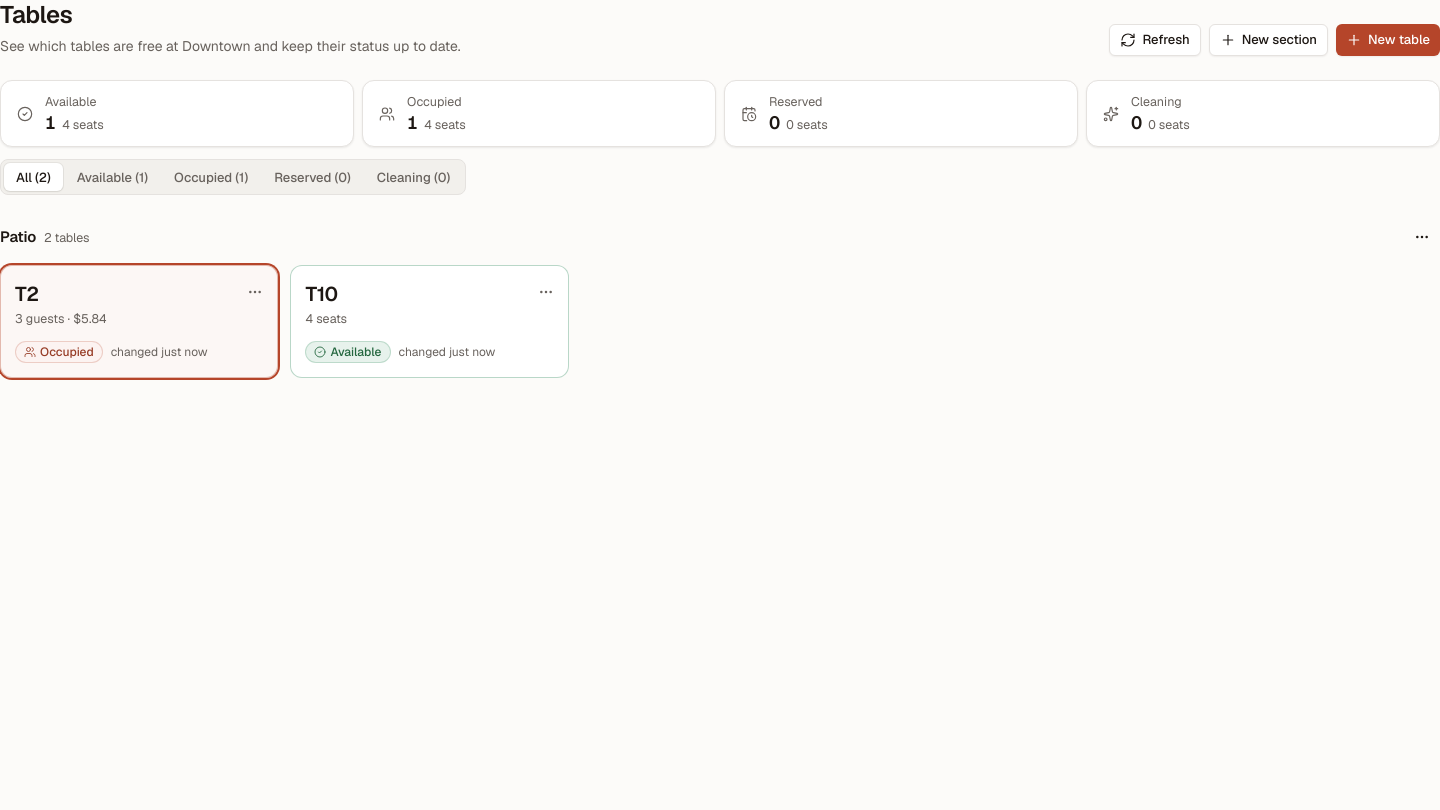
Test: Tables screen: checks › each check keeps its own round: Ana's round goes to Ana's check; a retry reuses the key
Later steps or results of the test are not shown.
Press Enter in the button with aria-label "Table T2,", box [0, 265, 278, 378]
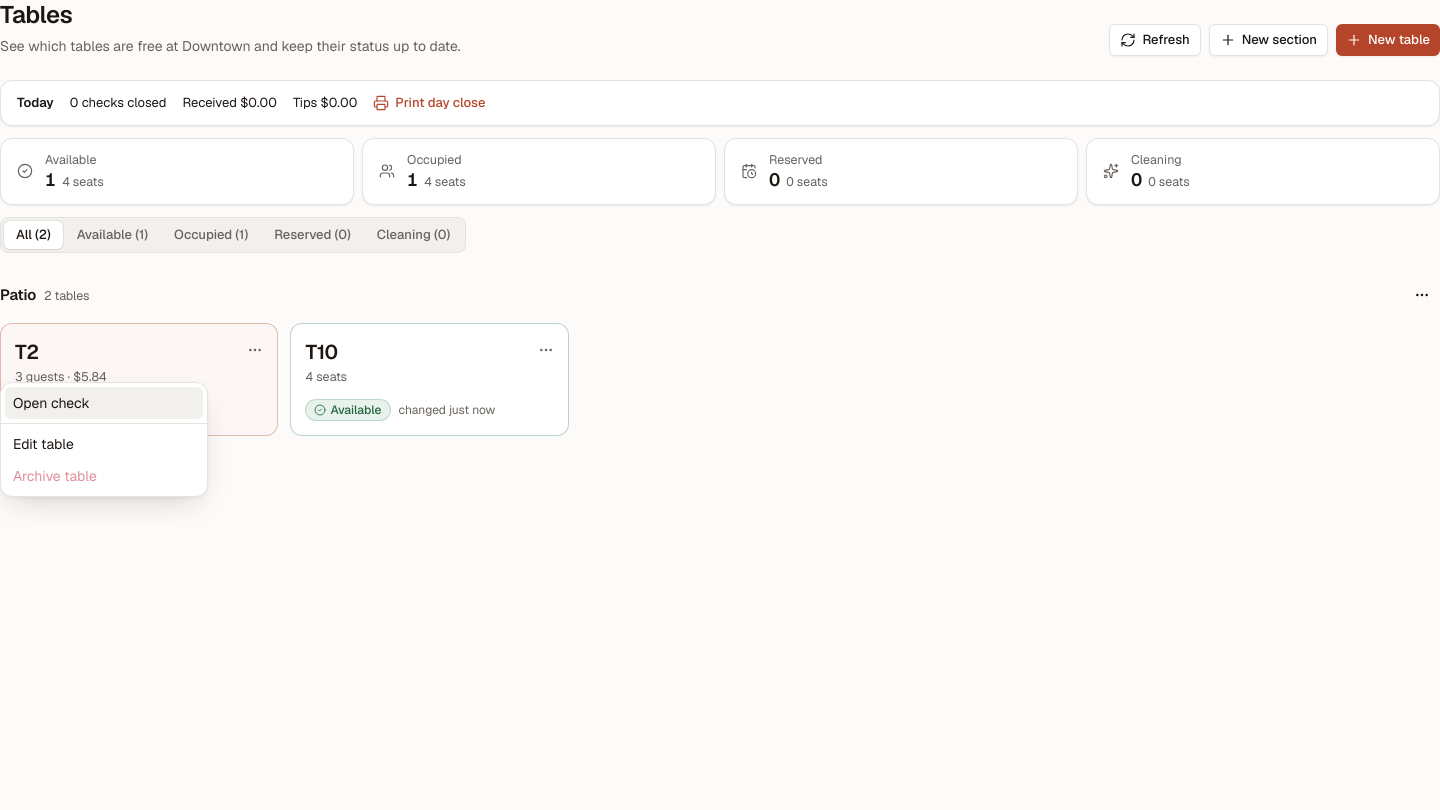
Click the menu item "Open check".
click(104, 403)  # box [5, 387, 203, 419]
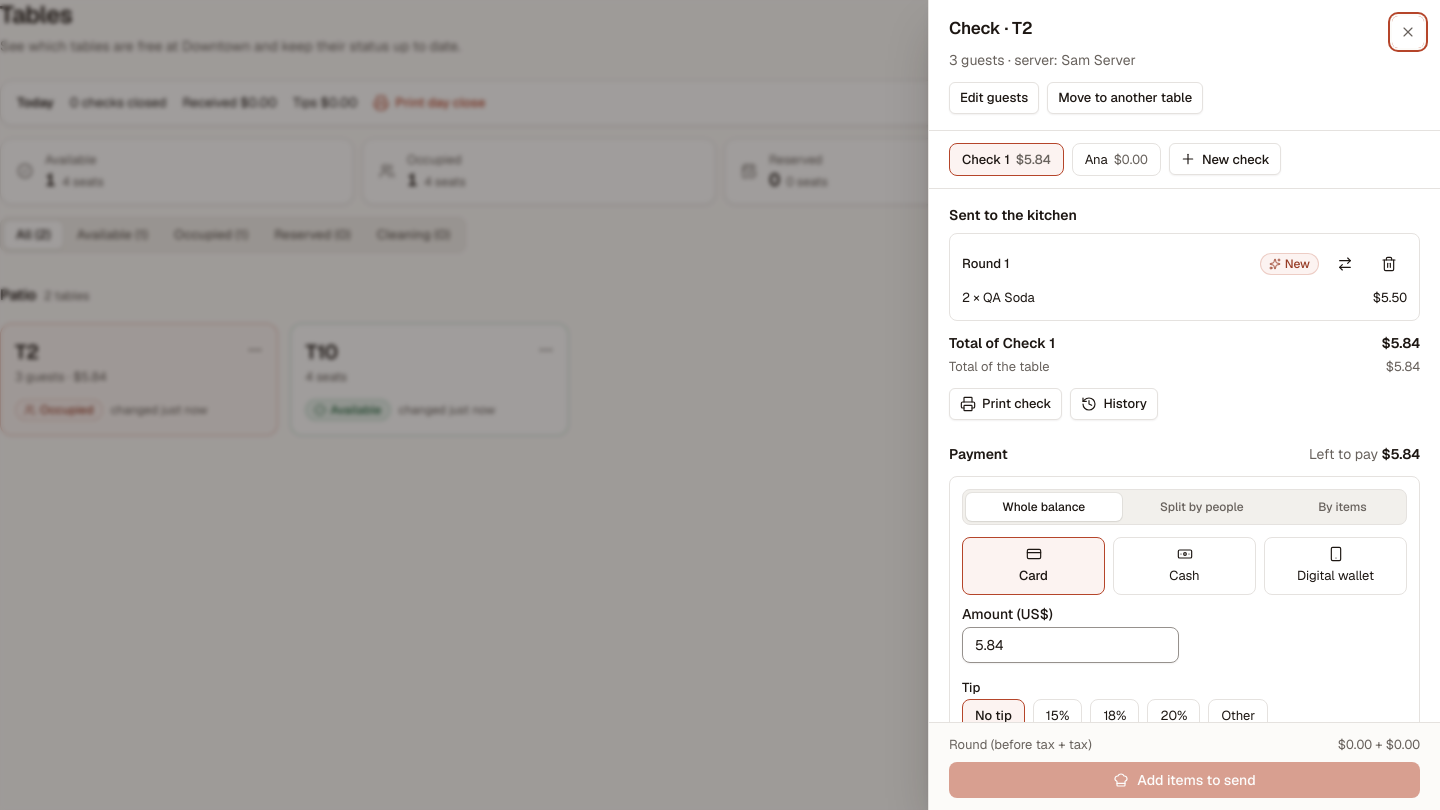
Result: the text "2 × QA Soda" is shown at [962, 288, 1035, 308]
Click the button "Ana$0.00".
click(1116, 159)  # box [1072, 142, 1161, 176]
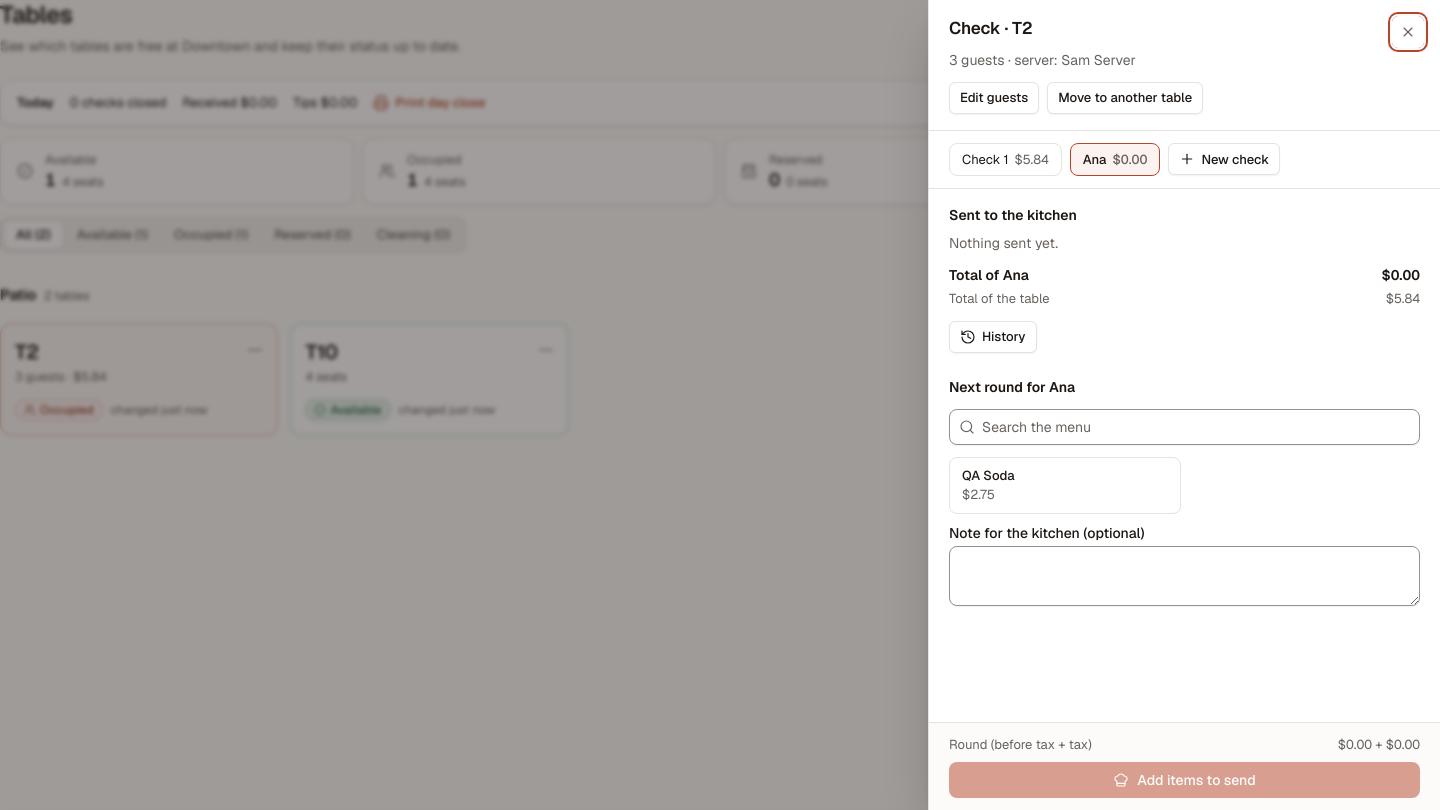
Result: the text "Total of the table" is shown at [949, 289, 1050, 308]
Result: the text "Nothing sent yet." is shown at [949, 234, 1058, 252]
Click the button "QA Soda $2.75".
click(1065, 485)  # box [949, 456, 1180, 514]
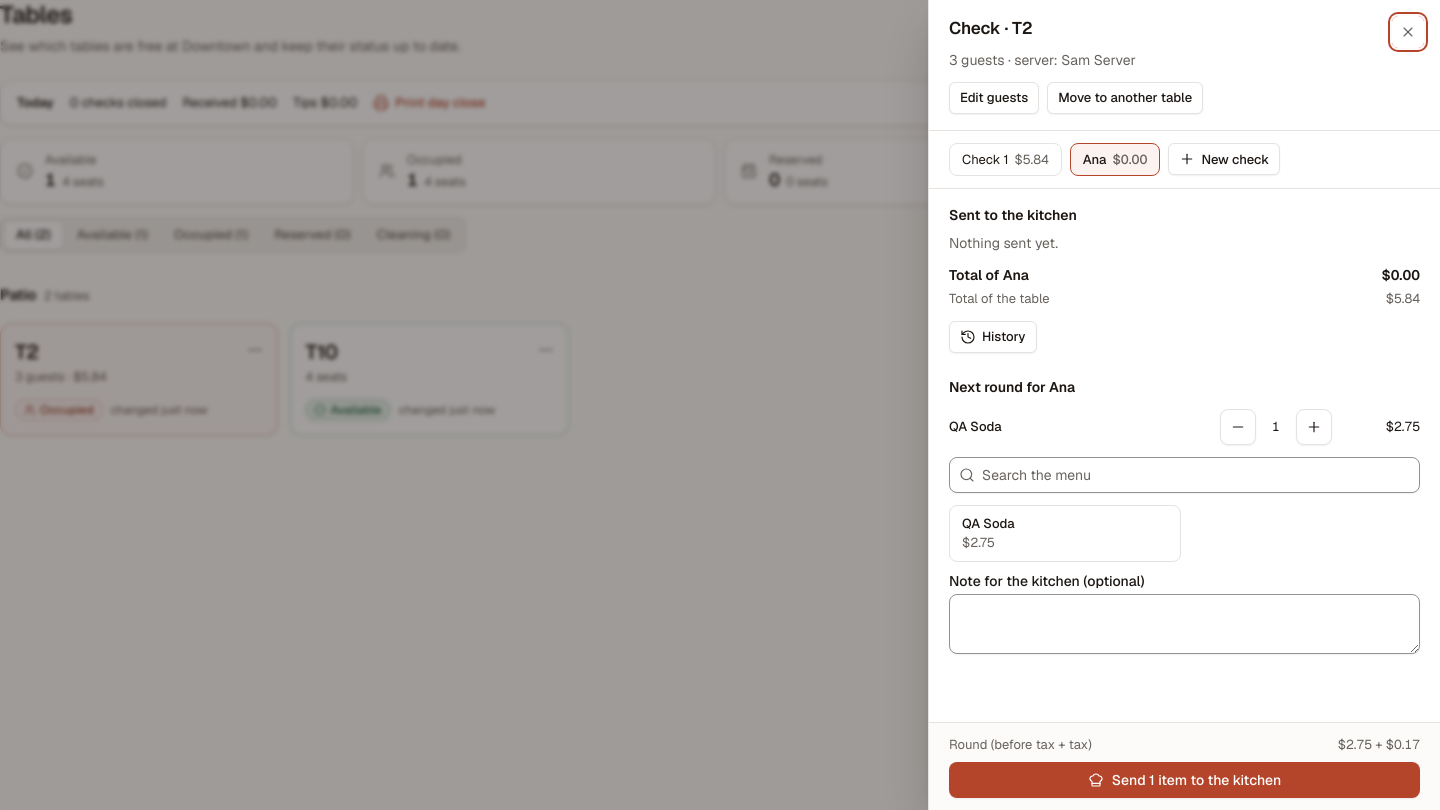
Click the button "Send 1 item to the kitchen".
click(1184, 780)  # box [949, 762, 1420, 798]
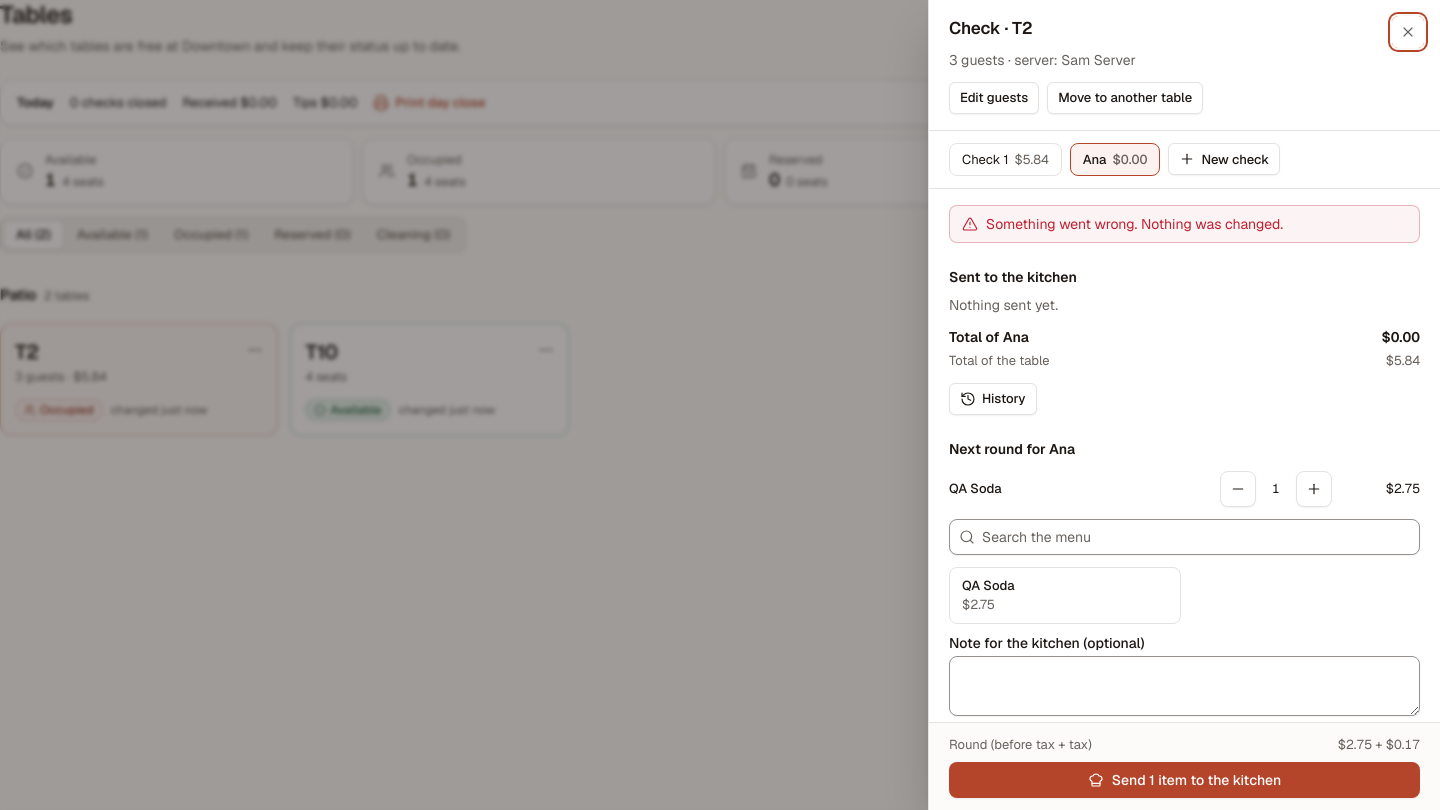
Result: the text "Something went wrong. Nothing was changed." is shown at [949, 205, 1420, 243]
